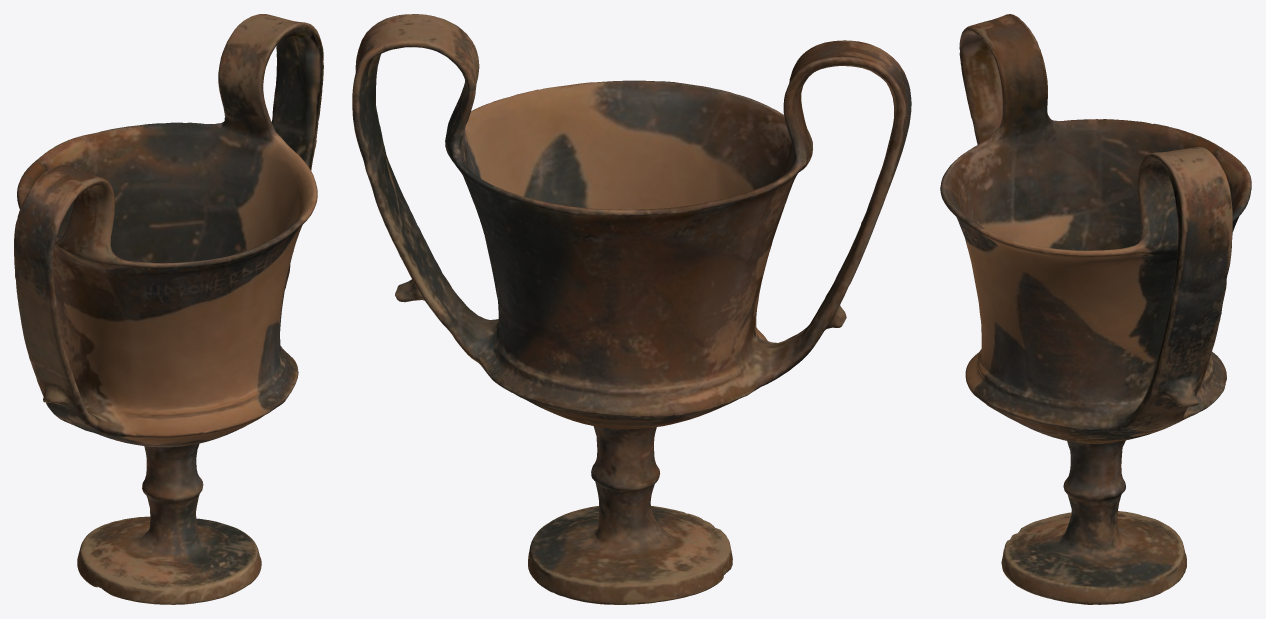
Rendered from kantharos_mit_weihinschrift_an_herakles.glb.
3 views of the same model, side by side, from view 1: azimuth 30°, elevation 25°; view 2: azimuth 150°, elevation 25°; view 3: azimuth 270°, elevation 25° (orthographic). The views are drawn at different scales.
Bounding box in the file's own units: 0.224 × 0.257 × 0.1495.
Materials: 1 (1 with a texture image).
